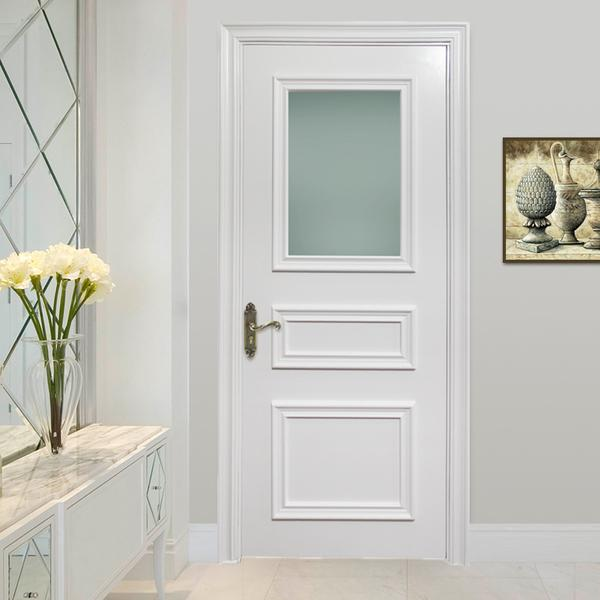door: (232, 38, 448, 559)
